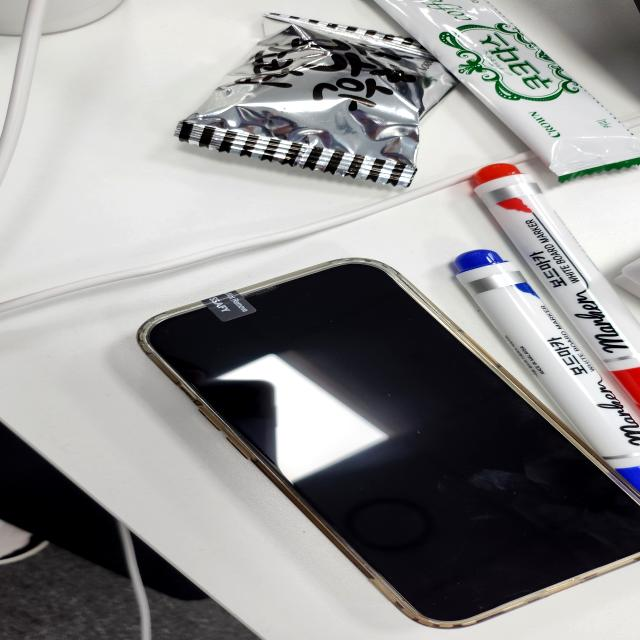phone: (138, 256, 640, 628)
sticker: (201, 288, 259, 325)
